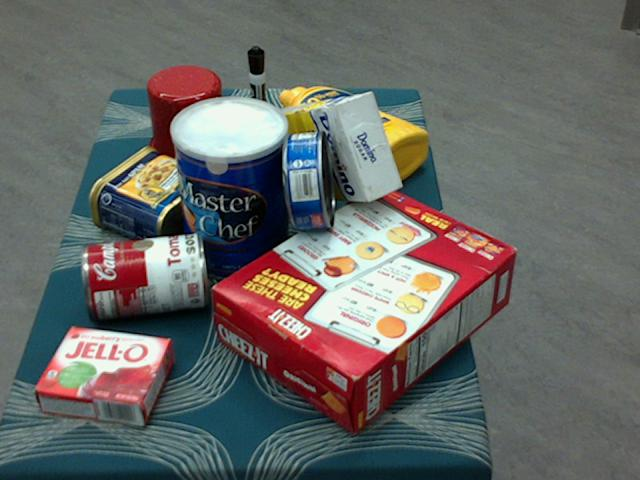cracker_box: (211, 183, 517, 432)
gelatin_box: (35, 325, 173, 425)
large_marker: (246, 45, 268, 149)
master_chef_can: (170, 98, 289, 284)
mug: (146, 66, 231, 167)
mustard_bottle: (278, 85, 427, 188)
potted_meat_can: (88, 147, 218, 249)
sugar_box: (260, 93, 401, 202)
tomato_soup_can: (80, 234, 206, 318)
tuna_fish_can: (283, 129, 335, 228)
